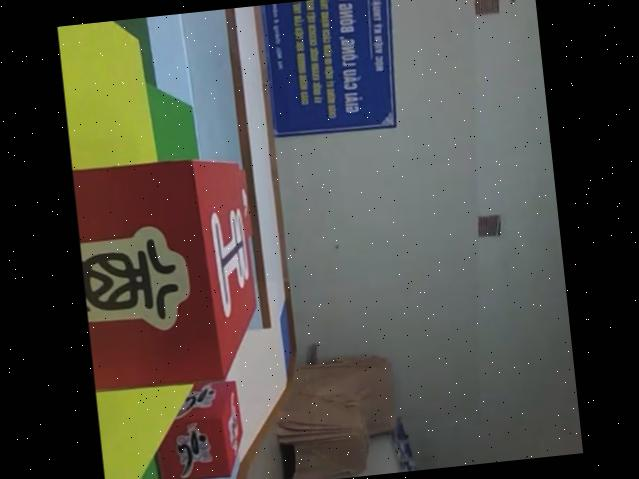R1: (144, 376, 250, 479)
R2 Fake: (71, 151, 268, 394)
